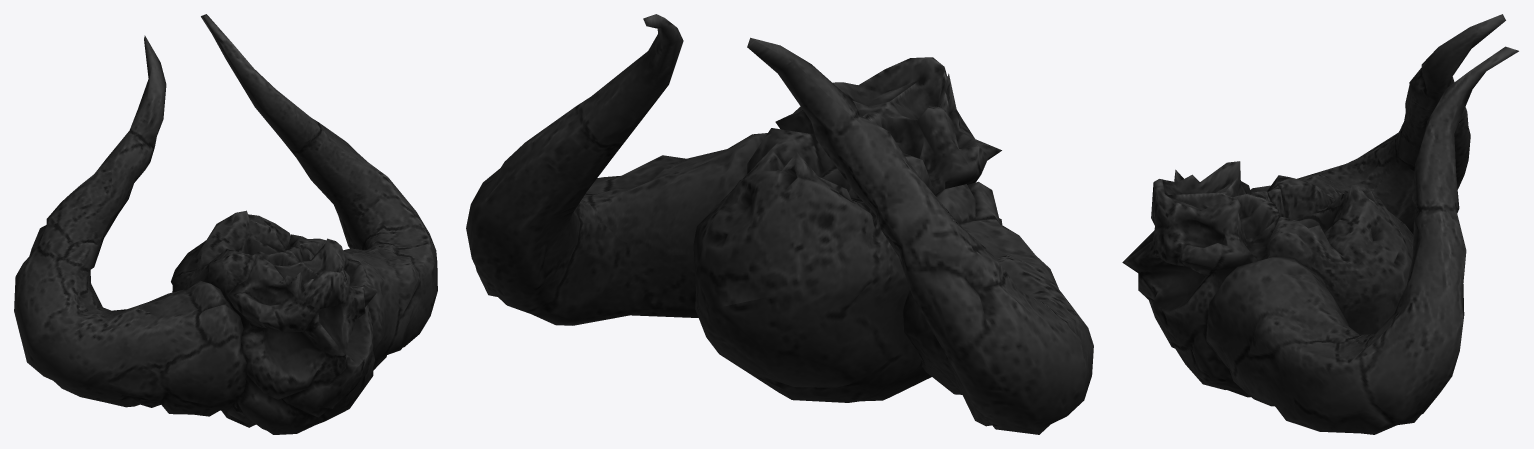
Rendered from statue2.obj.
The picture shows the model from 3 angles, left to right: view 1: azimuth 30°, elevation 25°; view 2: azimuth 150°, elevation 25°; view 3: azimuth 270°, elevation 25°; orthographic projection. The views are drawn at different scales.
Visible parts, largest first — view 1: statue2; view 2: statue2; view 3: statue2.
Boxes of the visible parts, left/top/right/bottom form: statue2: left=14, top=14, right=437, bottom=434; statue2: left=466, top=14, right=1093, bottom=434; statue2: left=1122, top=14, right=1518, bottom=434.
Bounding box in the file's own units: 4.77 × 3.59 × 3.61.
